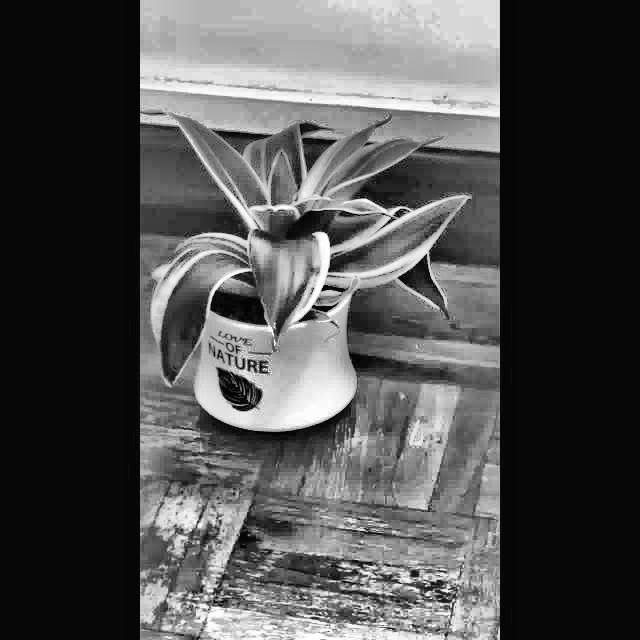plants: (140, 104, 470, 445)
